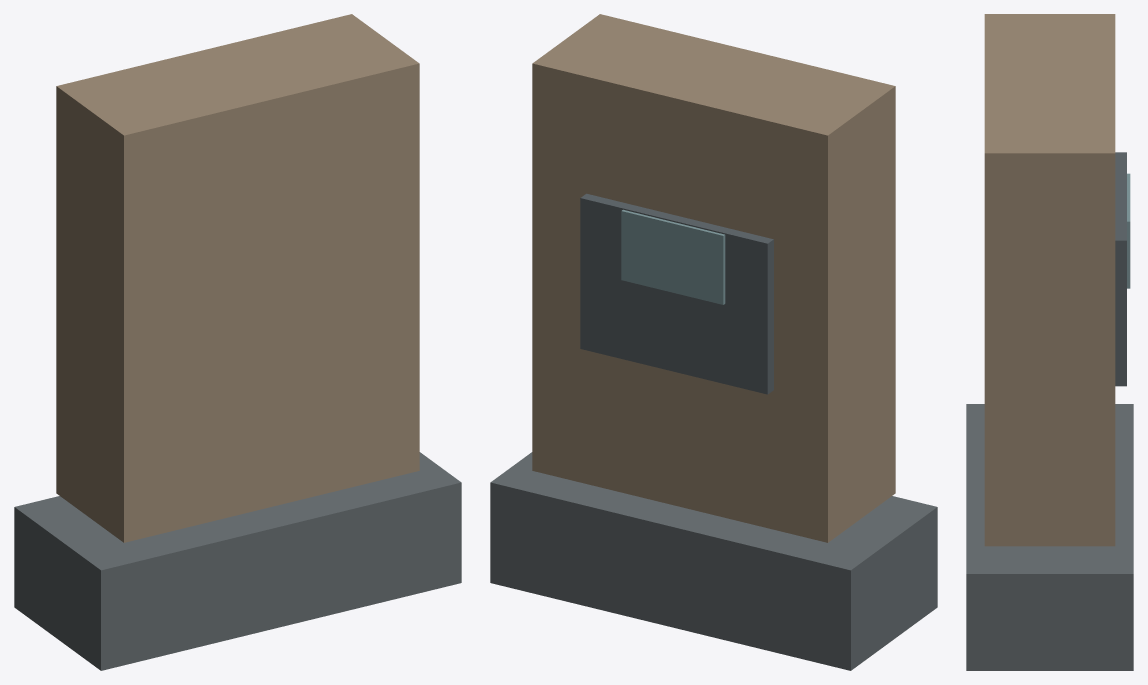
Rendered from iz3_school_locker_02.glb.
The picture shows the model from 3 angles, left to right: view 1: azimuth 30°, elevation 25°; view 2: azimuth 150°, elevation 25°; view 3: azimuth 270°, elevation 25°; orthographic projection. The views are drawn at different scales.
Parts seen in each view (by area): view 1: cabinet, base; view 2: cabinet, base, panel, display; view 3: cabinet, base, panel, display.
Boxes of the visible parts, x1,y1,x2,y2 form: cabinet: (56, 14, 419, 542); base: (14, 452, 461, 670); cabinet: (532, 14, 895, 542); base: (490, 452, 937, 670); panel: (580, 193, 773, 394); display: (621, 209, 725, 304); cabinet: (984, 14, 1115, 546); base: (966, 404, 1133, 670); panel: (1115, 152, 1126, 386); display: (1127, 173, 1130, 288).
Size of the model in its own units: 1.2 by 1.66 by 0.5.
